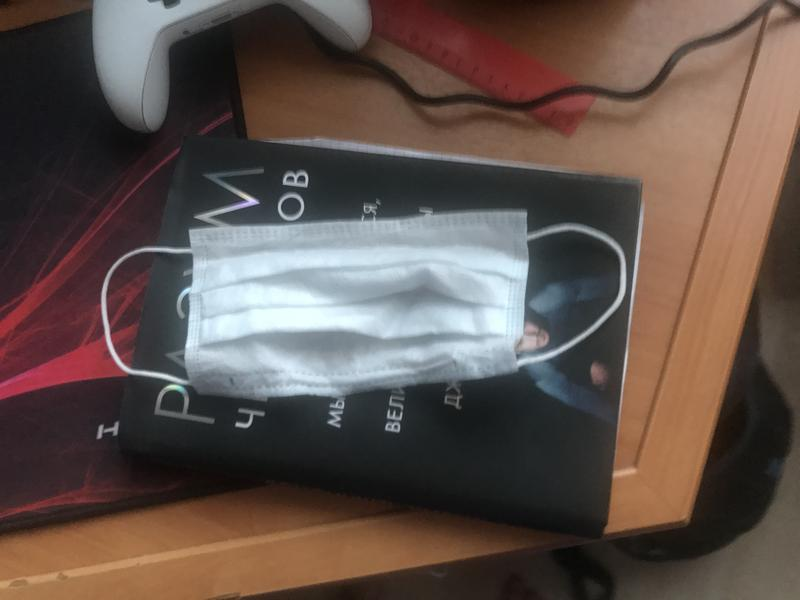medical_mask: (103, 210, 630, 395)
